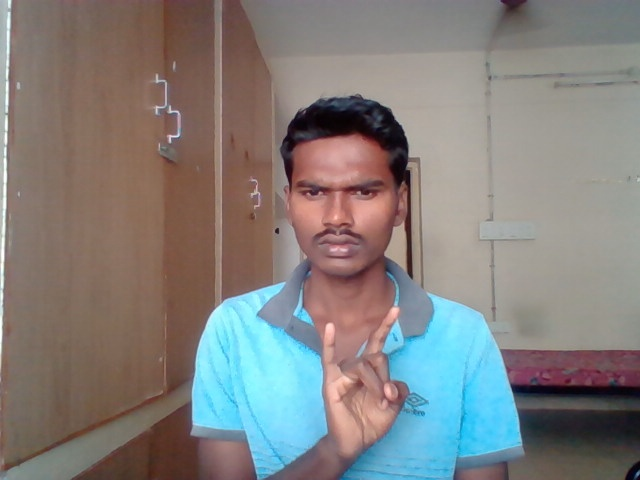I Love You: (318, 304, 413, 460)
